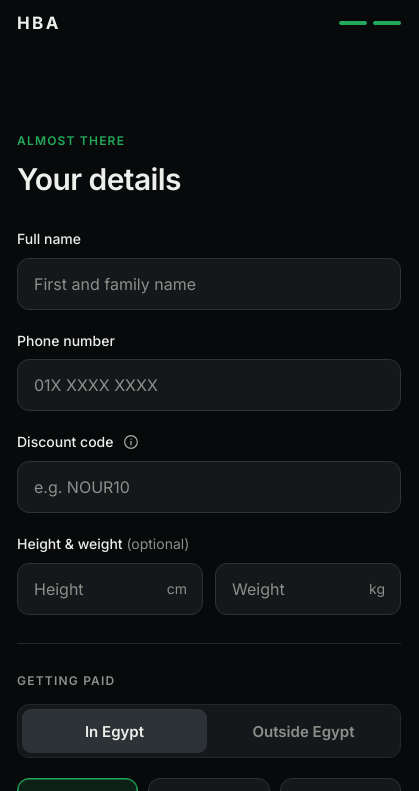
Test: the details form › keeps the discount code's explanation behind the i
Expected: the text "Full name" is shown, top-left (17, 230), bottom-right (81, 247)
Expected: the text "The code customers type at checkout" is not shown
Click the button named "About the discount code" at (132, 442), box top-left (116, 426), bottom-right (148, 458)
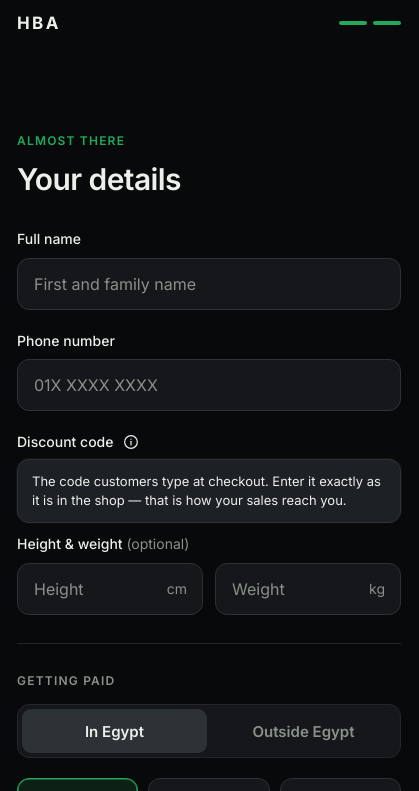
Expected: the text "The code customers type at checkout" is shown, top-left (32, 473), bottom-right (381, 508)
